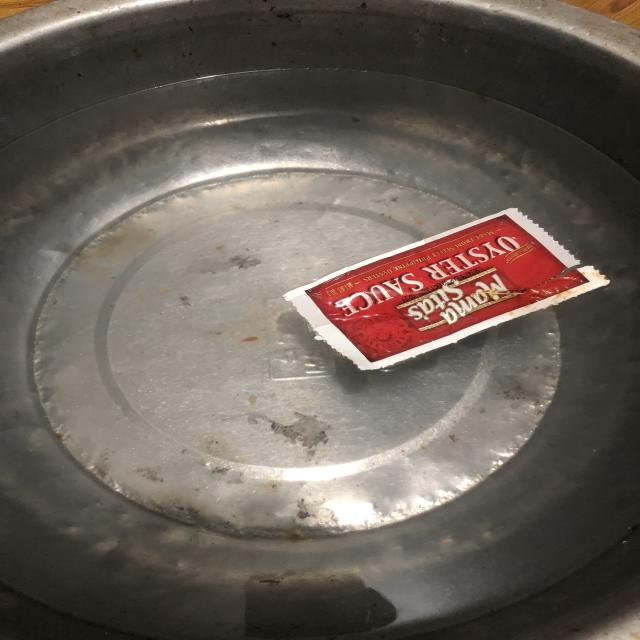Plastic Wrapper: (256, 191, 624, 384)
